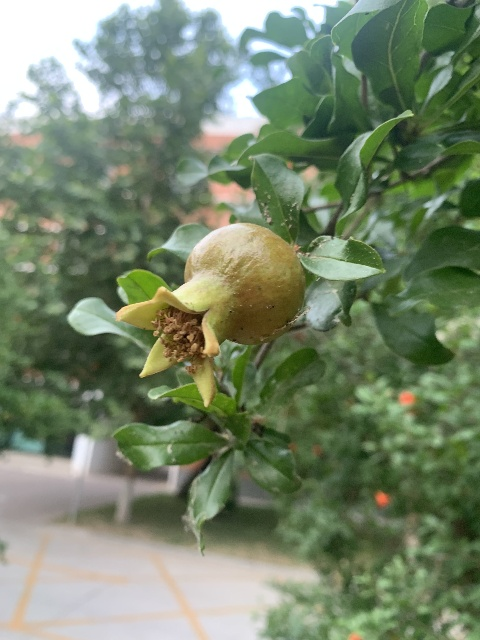mid-growth: (114, 222, 306, 410)
